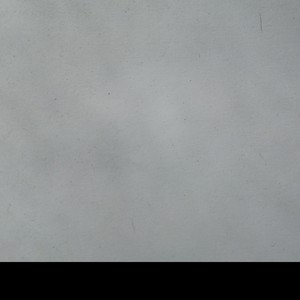base: (1, 1, 299, 259)
